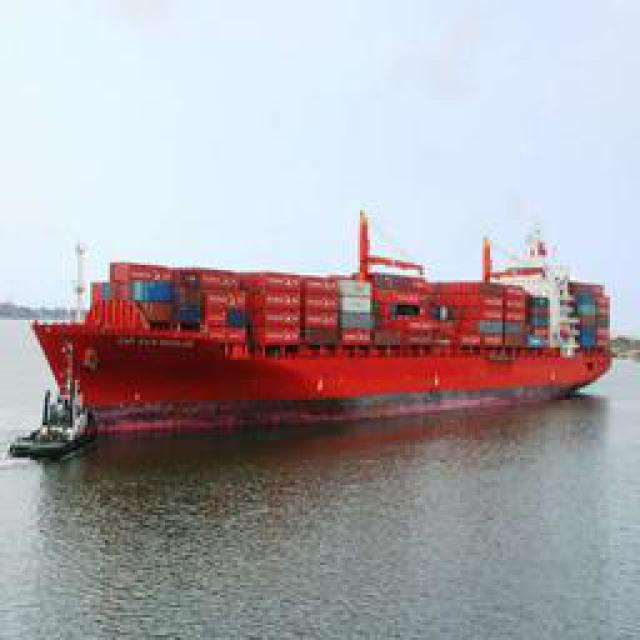Ship: (11, 194, 619, 457)
